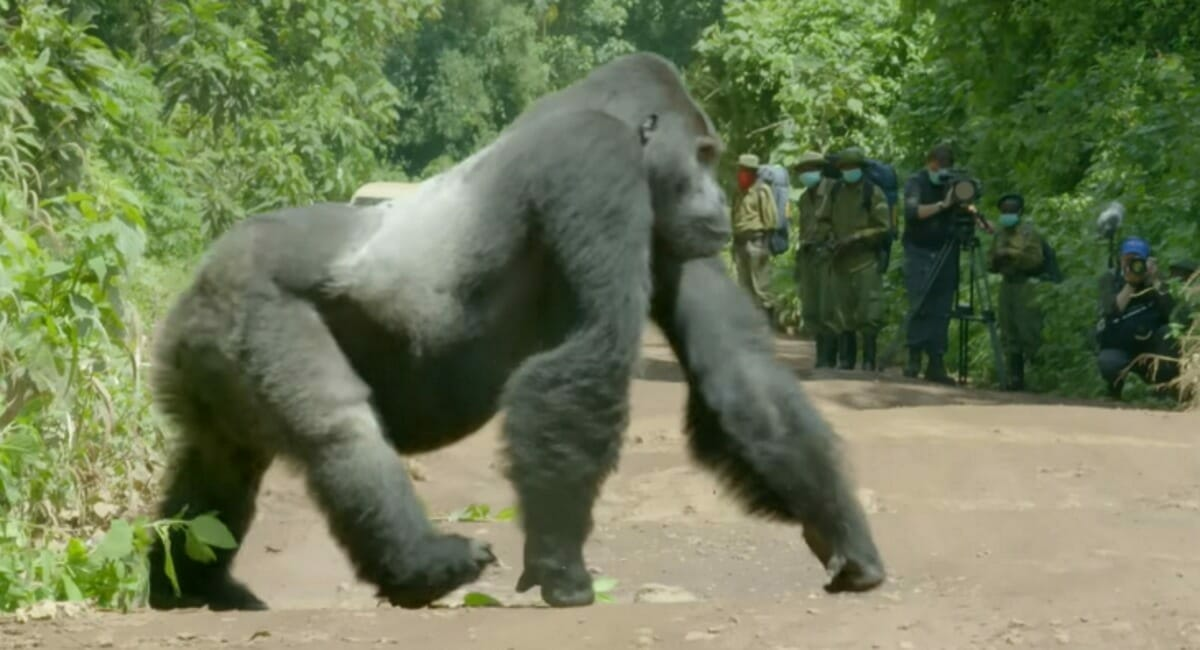Gorilla: (160, 47, 733, 611)
